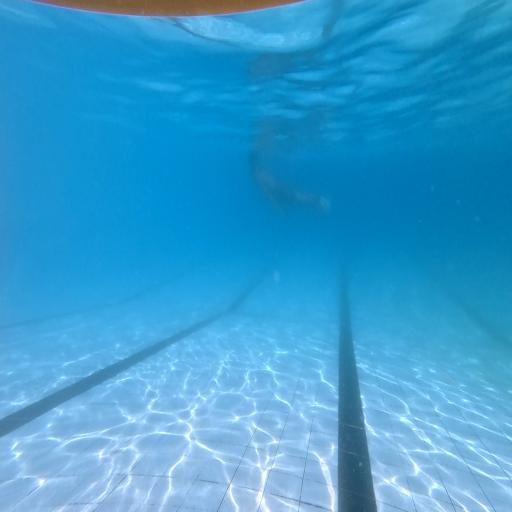upper_gate: (32, 0, 314, 17)
